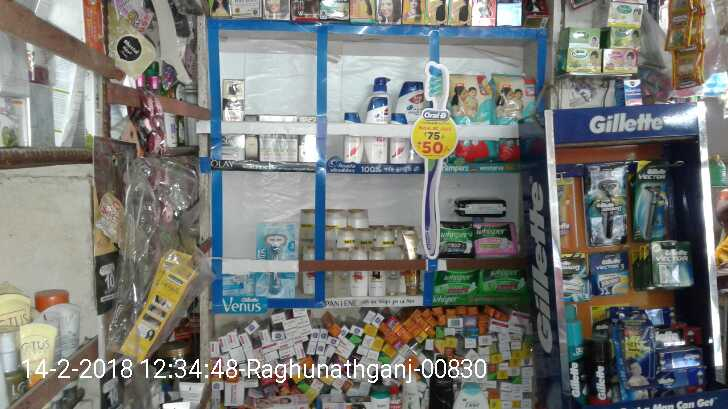gillete: (617, 308, 652, 396), (636, 162, 674, 239), (656, 329, 704, 388), (638, 241, 693, 292), (590, 165, 625, 240), (565, 320, 590, 403), (590, 254, 631, 298), (560, 168, 577, 247), (559, 253, 585, 300), (594, 339, 611, 398)
venus: (256, 222, 297, 297), (222, 257, 256, 297)
